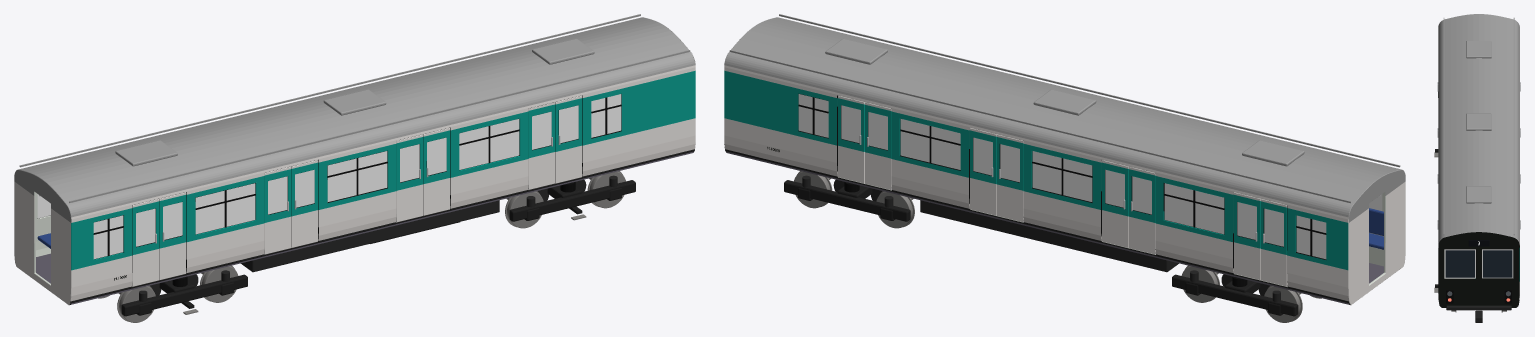
File: mf67__tail.glb
3 views of the same model, side by side, from view 1: azimuth 30°, elevation 25°; view 2: azimuth 150°, elevation 25°; view 3: azimuth 270°, elevation 25° (orthographic). The views are drawn at different scales.
Visible parts, largest first — view 1: mf67_tail; view 2: mf67_tail; view 3: mf67_tail.
Boxes of the visible parts, x1,y1,x2,y2 form: mf67_tail: (14,14,695,322); mf67_tail: (724,14,1405,322); mf67_tail: (1434,14,1520,322).
Size of the model in its own units: 15.65 by 3.5 by 2.53.
Materials: 9 (4 with a texture image).
